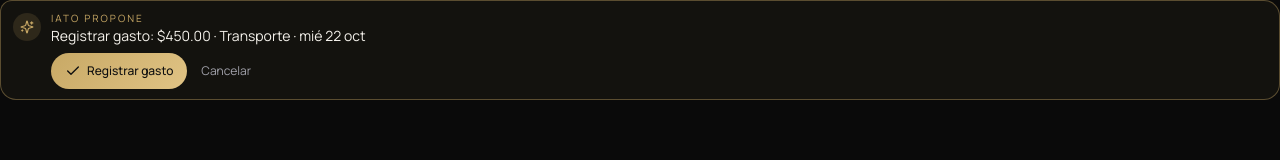
Scenario: tarjeta de acción › si el servidor rechaza (422), se ve el motivo y se puede reintentar
Click the button "Registrar gasto" at (119,71), box [51,53,187,89]
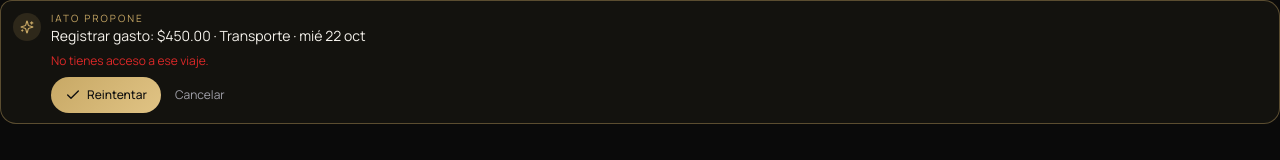
Result: the message reads "No tienes acceso a ese viaje." at [51,52,208,69]
Result: the button "Reintentar" is shown at [51,77,161,113]
